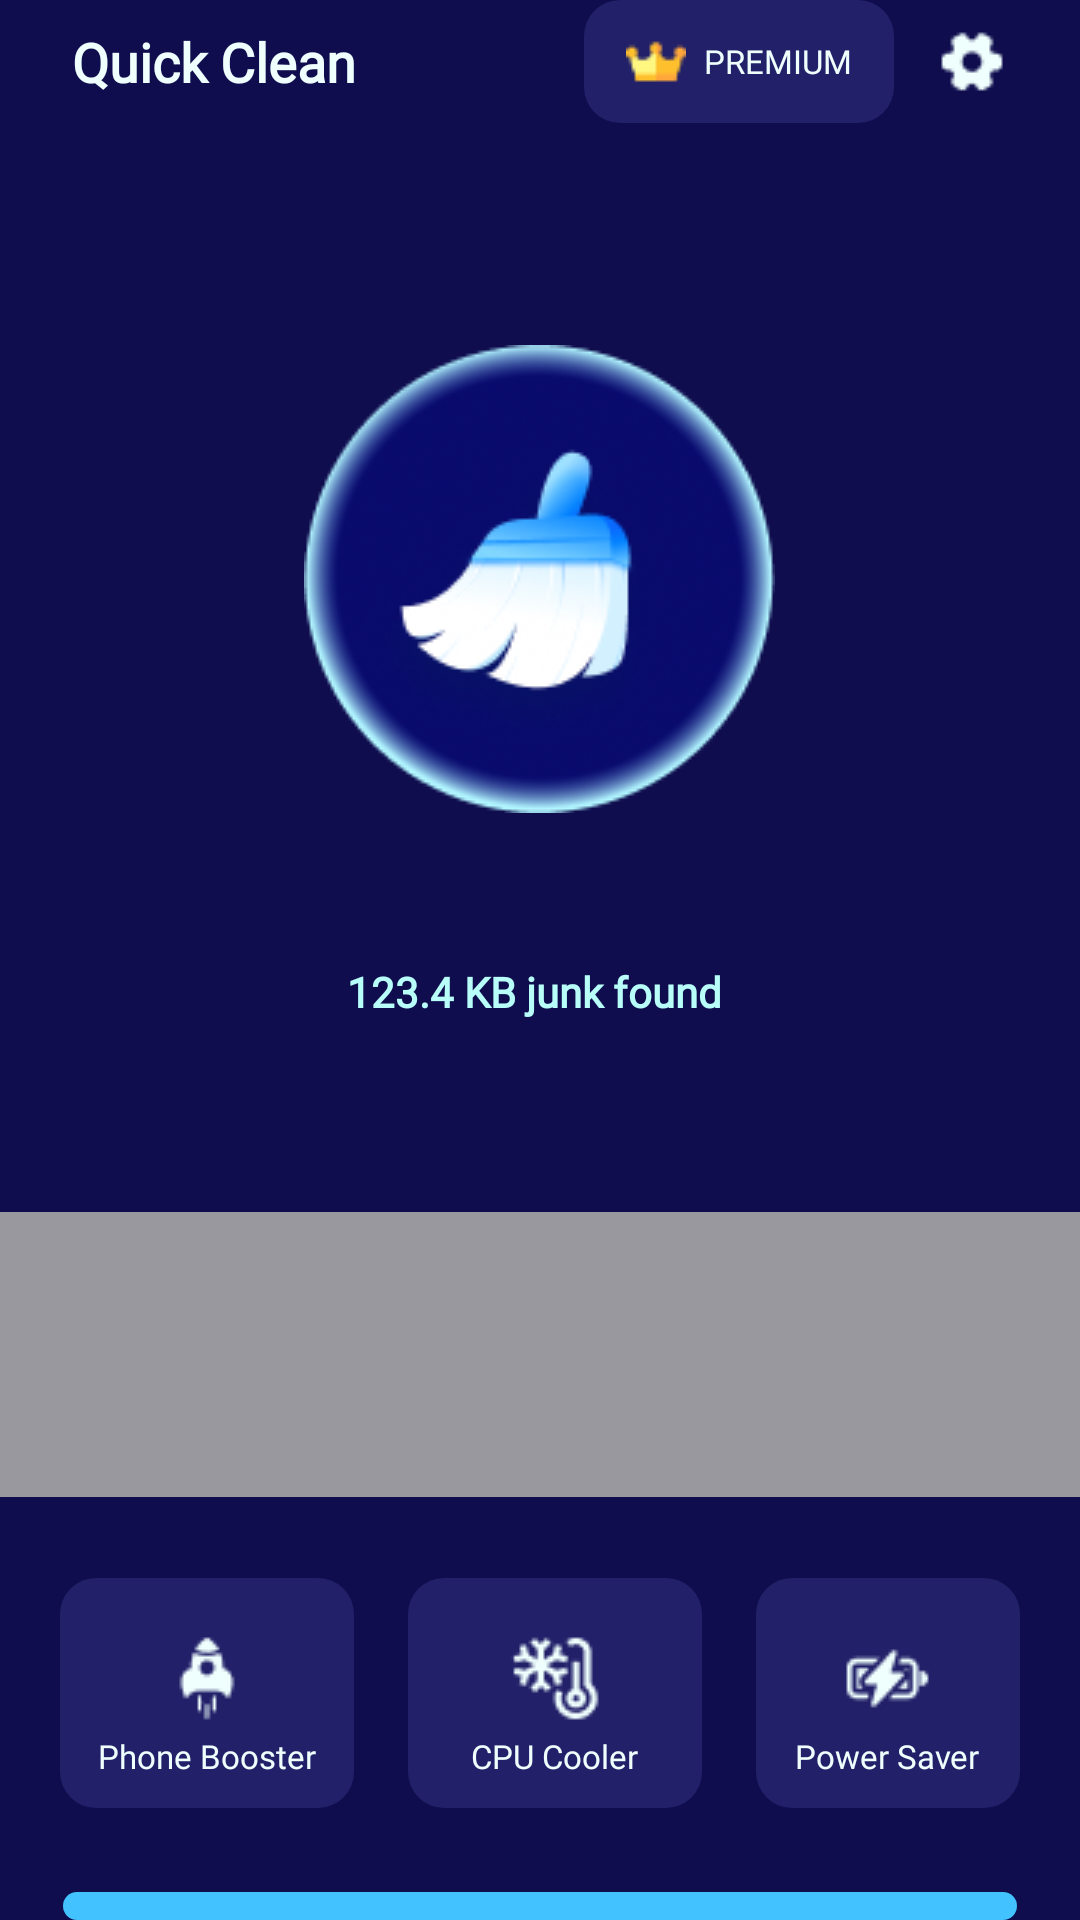

Where icons sit on this 1080*1920 app screen, as (x1,y1,x2,y2):
battery: (846,1649,929,1708)
crown: (626,41,686,82)
setting: (941,32,1003,91)
